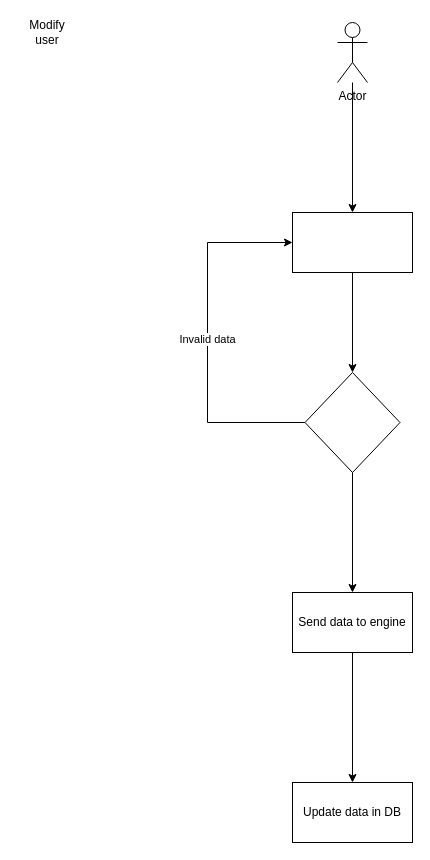
This 430x860 diagram has some shape labels left out. Each missing label, with the centre of its shape:
"Modify profile data" goes at [352,242].
"Validate modifications" goes at [352,422].
